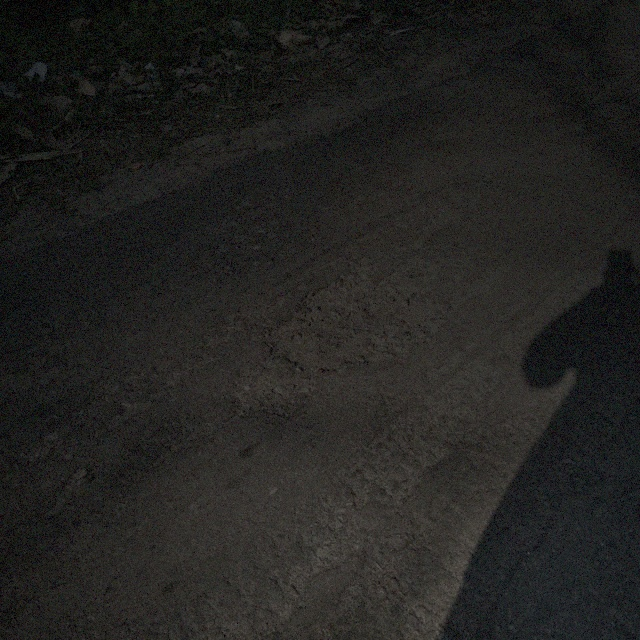pothole: (256, 263, 443, 375), (232, 372, 319, 424)
